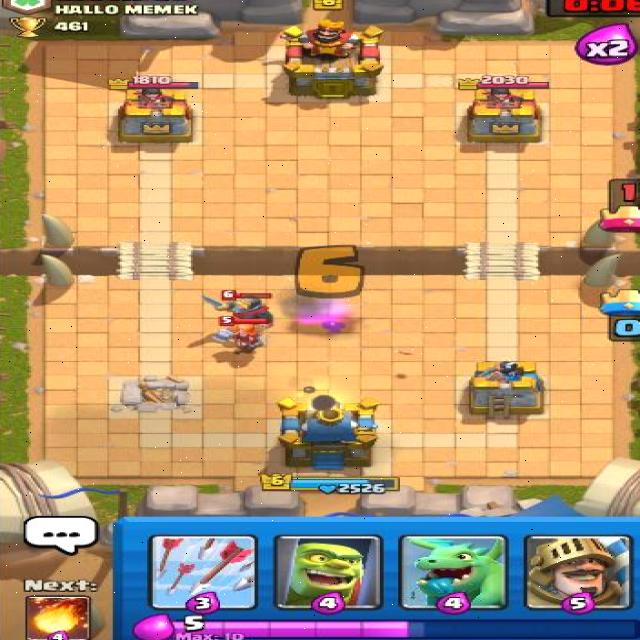Enemy-Knight: (200, 288, 278, 331)
Enemy-Valkyrie: (209, 314, 273, 356)
